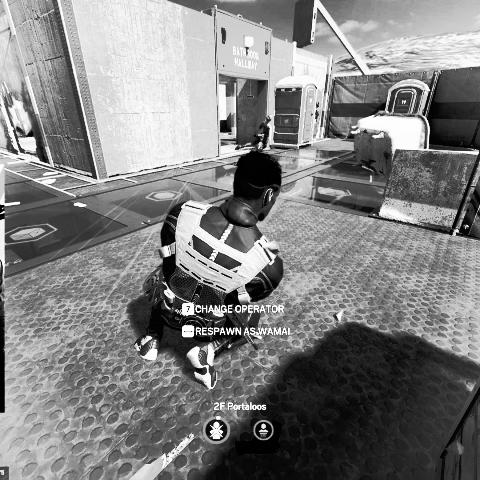Character: (132, 147, 288, 390), (235, 114, 274, 153)
Head: (233, 151, 283, 224), (265, 114, 273, 123)
